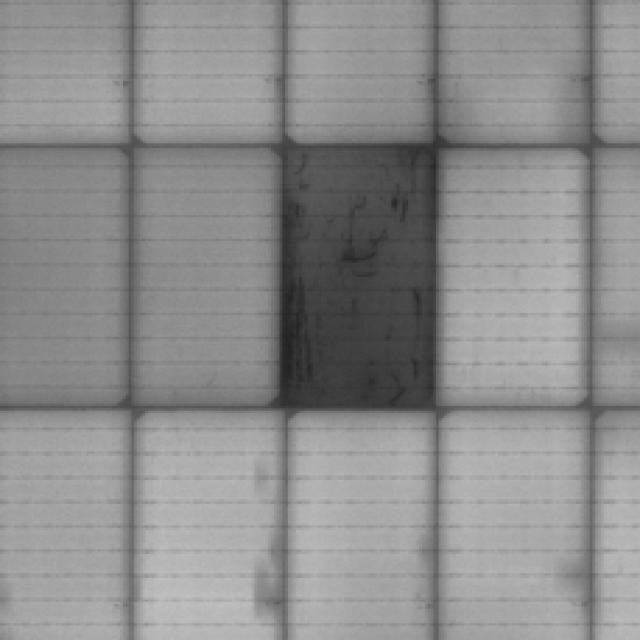DEAD CELL: (264, 121, 440, 426)
